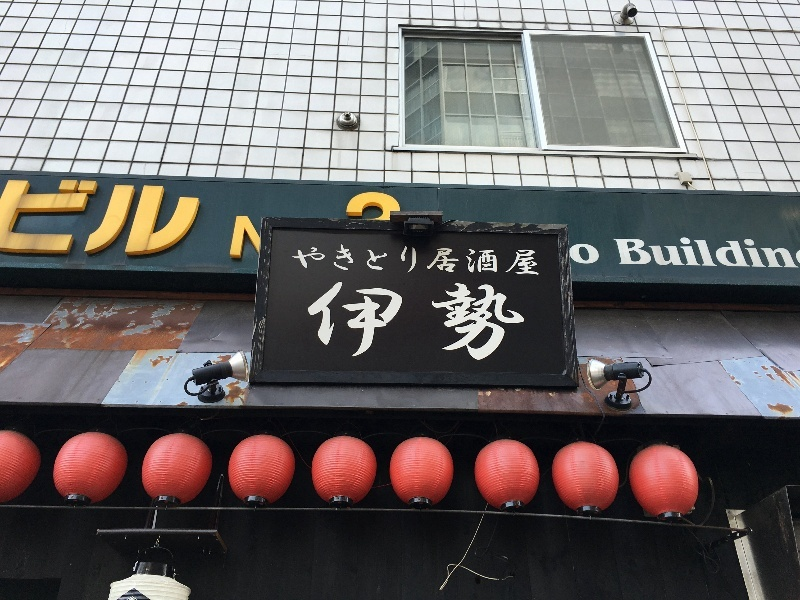text: (1, 175, 16, 267), (17, 175, 32, 267), (33, 175, 48, 267), (49, 175, 64, 267), (65, 175, 80, 267), (81, 175, 96, 267), (97, 175, 112, 267), (113, 175, 128, 267), (129, 175, 144, 267), (145, 175, 160, 267), (161, 175, 176, 267), (177, 175, 192, 267), (513, 276, 529, 362), (321, 276, 336, 362), (337, 276, 352, 362), (353, 276, 368, 362), (369, 276, 384, 362), (385, 276, 400, 362), (401, 276, 416, 362), (417, 276, 432, 362), (433, 276, 448, 362), (449, 276, 464, 362), (465, 276, 480, 362), (481, 276, 496, 362), (497, 276, 512, 362), (193, 175, 207, 267), (308, 276, 320, 362), (241, 213, 256, 264), (305, 240, 320, 279), (321, 240, 336, 279), (337, 240, 352, 279), (353, 240, 368, 279), (369, 240, 384, 279), (385, 240, 400, 279), (401, 240, 416, 279), (417, 240, 432, 279), (433, 240, 448, 279), (449, 240, 464, 279), (465, 240, 480, 279), (481, 240, 496, 279), (497, 240, 512, 279), (513, 240, 528, 279), (353, 191, 368, 223), (369, 191, 384, 223), (385, 191, 400, 223), (625, 237, 640, 269), (641, 237, 656, 269), (657, 237, 672, 269), (673, 237, 688, 269), (689, 237, 704, 269), (721, 239, 736, 271), (737, 239, 752, 271), (753, 239, 768, 271), (769, 239, 784, 271), (785, 239, 800, 271), (292, 240, 304, 279), (529, 240, 541, 279), (705, 237, 718, 269), (612, 237, 624, 269), (257, 213, 264, 264), (577, 243, 592, 266), (710, 239, 720, 271), (234, 213, 240, 264), (593, 243, 602, 266), (346, 191, 352, 223), (568, 243, 576, 266), (401, 191, 403, 223)
